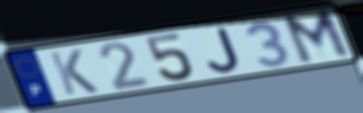2: (97, 41, 153, 93)
3: (244, 19, 292, 69)
5: (142, 31, 197, 82)
J: (205, 25, 243, 74)
K: (46, 47, 101, 97)
M: (278, 7, 354, 67)
